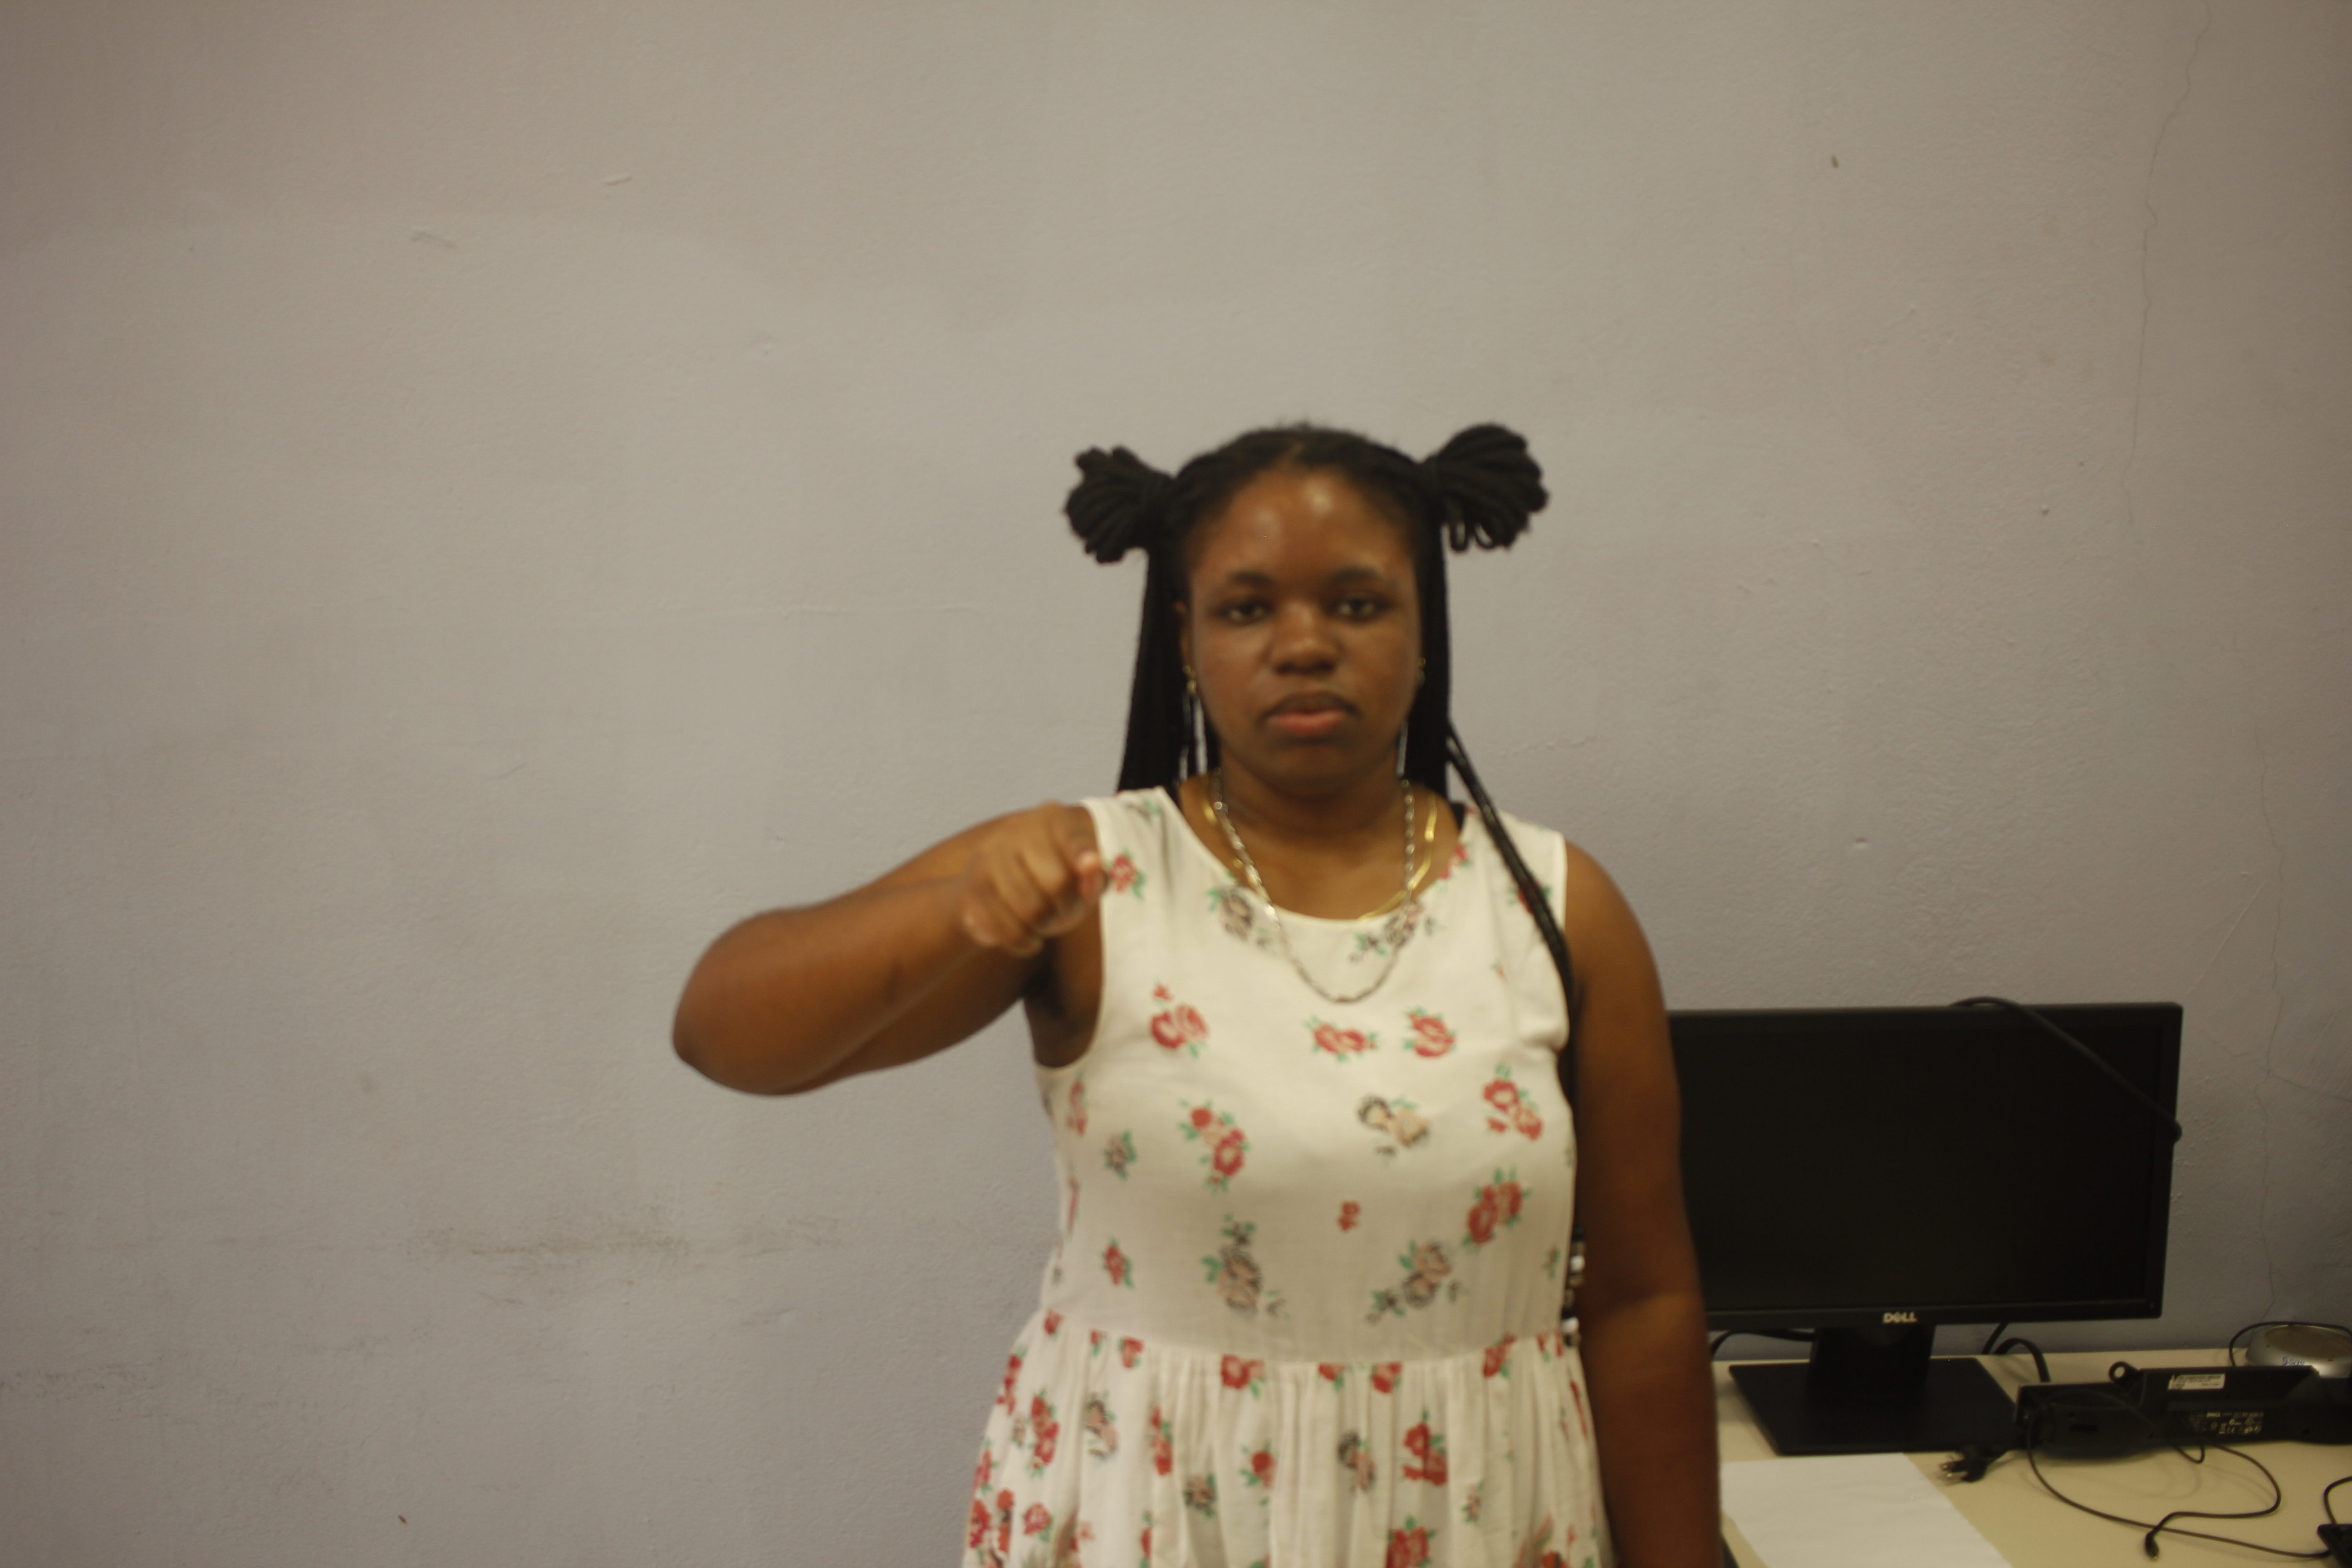point: (940, 802, 1118, 959)
